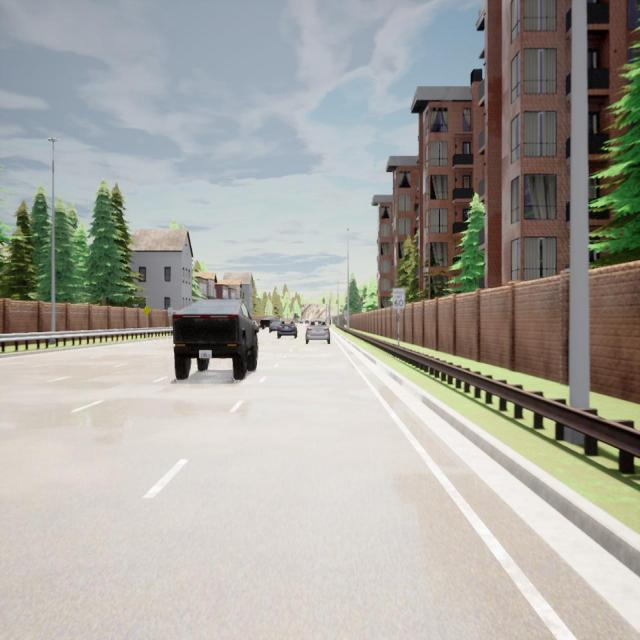Traffic_Signs: (392, 288, 406, 309), (144, 304, 152, 315), (167, 307, 173, 318), (344, 310, 348, 318)
Vehicle: (173, 299, 259, 379), (305, 319, 330, 345), (277, 321, 298, 339), (260, 316, 275, 330), (270, 320, 280, 332), (299, 320, 303, 324), (305, 320, 309, 324)
